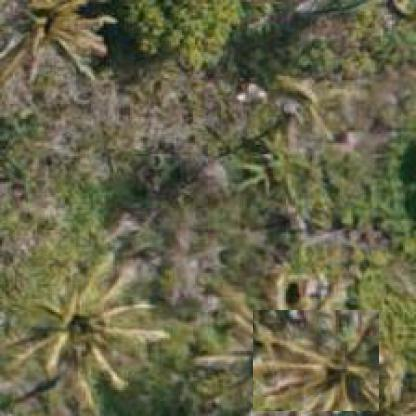coconut tree: (252, 310, 379, 412), (35, 299, 130, 414), (1, 0, 112, 80)
